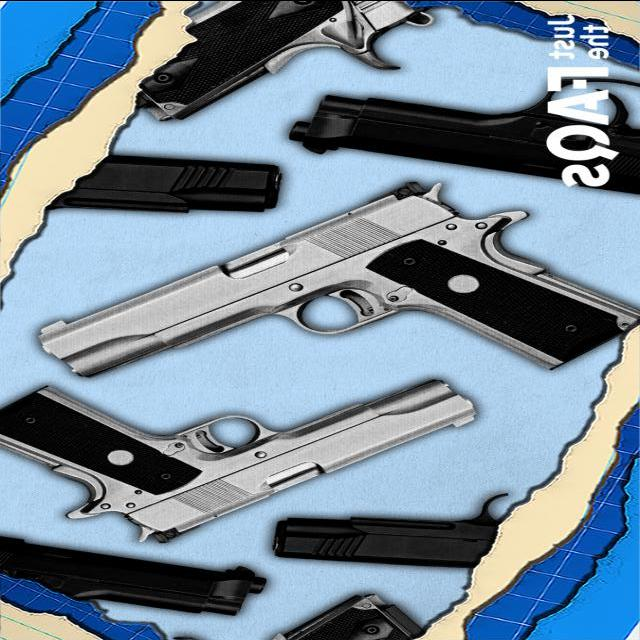pistol: (13, 169, 636, 385), (3, 365, 496, 551), (131, 2, 449, 126)
